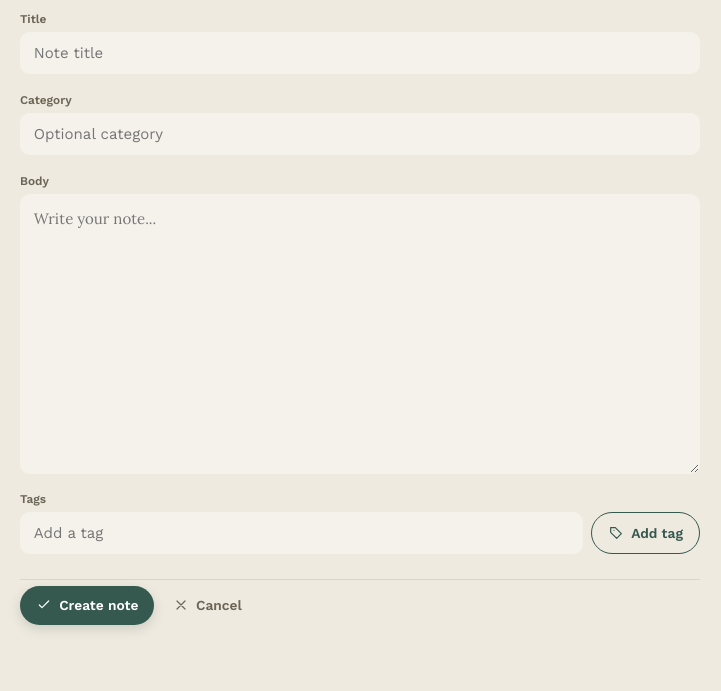
NoteForm validation › shows an error and does not add a duplicate tag (case-insensitive)
Type "Work" into the field labelled "Tags" at point(302, 533), box [20,512,583,554]
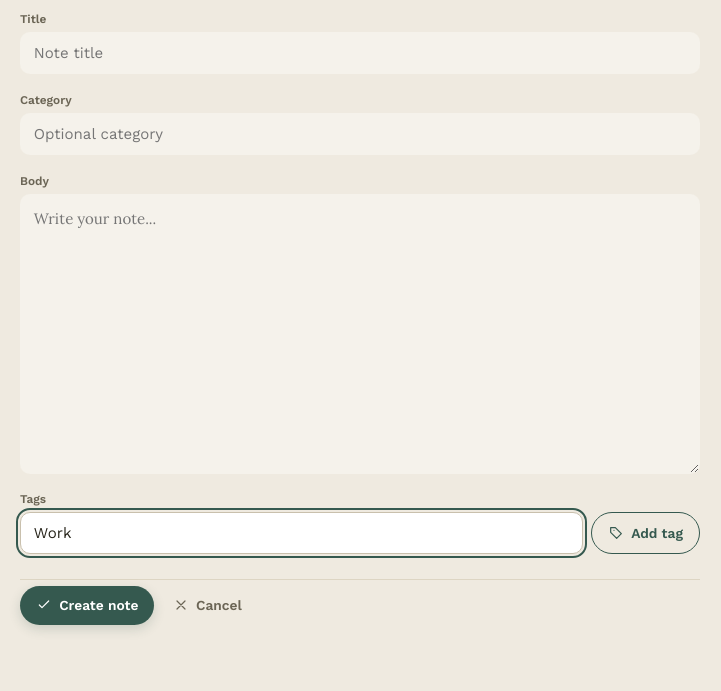
Click the button "Add tag" at point(646, 533), box [591,512,700,554]
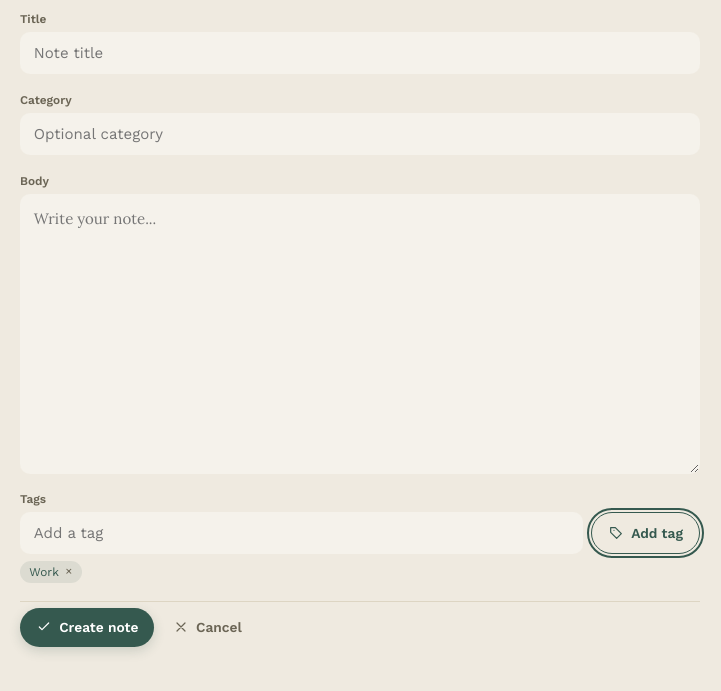
Type " work " into the field labelled "Tags" at point(302, 533), box [20,512,583,554]
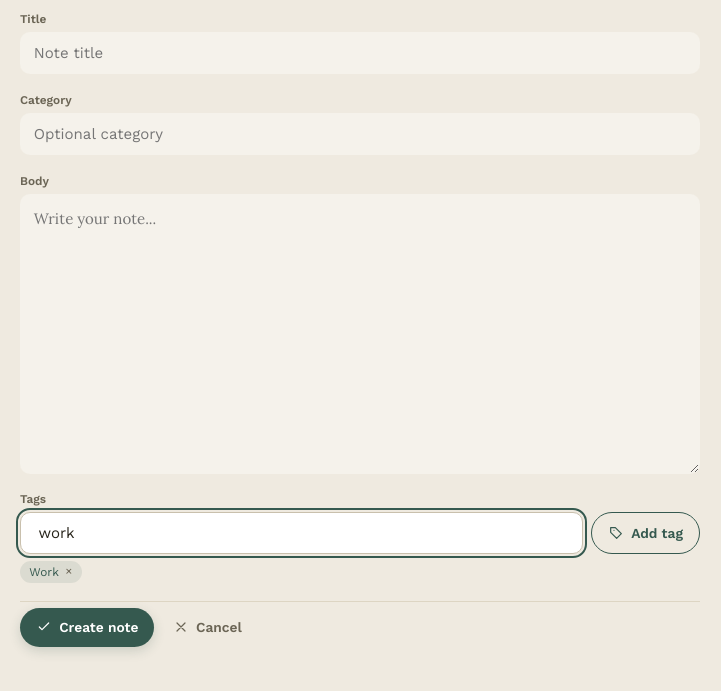
Click the button "Add tag" at point(646, 533), box [591,512,700,554]
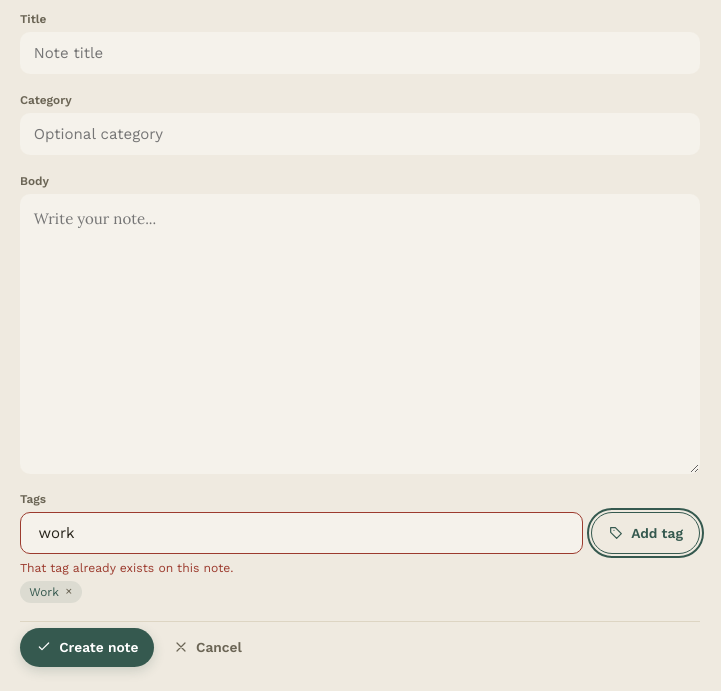
Expected: the number of list items is 1, [20,581,82,603]
Expected: the text "That tag already exists on this note." is shown, [20,560,234,574]
